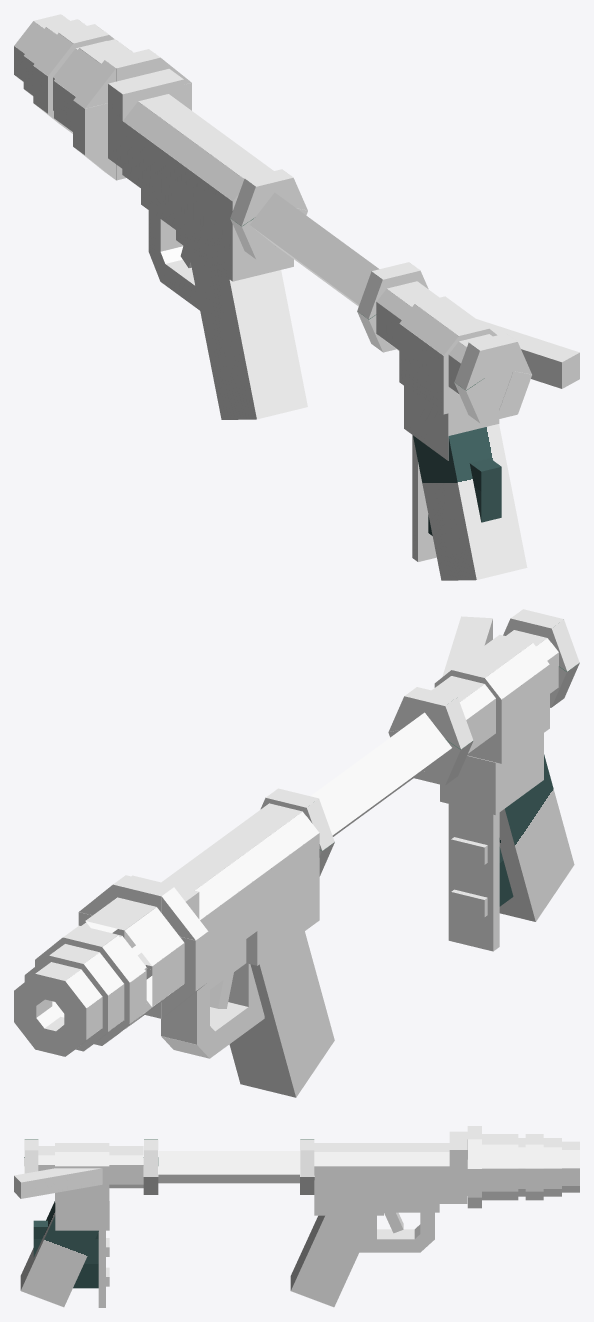
Rendered from mteg_m2_flamethrower.glb.
3 views of the same model, one above another, from view 1: azimuth 30°, elevation 25°; view 2: azimuth 150°, elevation 25°; view 3: azimuth 270°, elevation 25° (orthographic). The views are drawn at different scales.
Parts seen in each view (by area): view 1: Gun; view 2: Gun; view 3: Gun.
Boxes of the visible parts, box(x1,y1,x2,y2) form: Gun: box(14, 14, 579, 580); Gun: box(14, 609, 579, 1097); Gun: box(14, 1126, 579, 1307).
Bounding box in the file's own units: 0.1617 × 0.3217 × 0.9762.
Materials: 1 (1 with a texture image).
